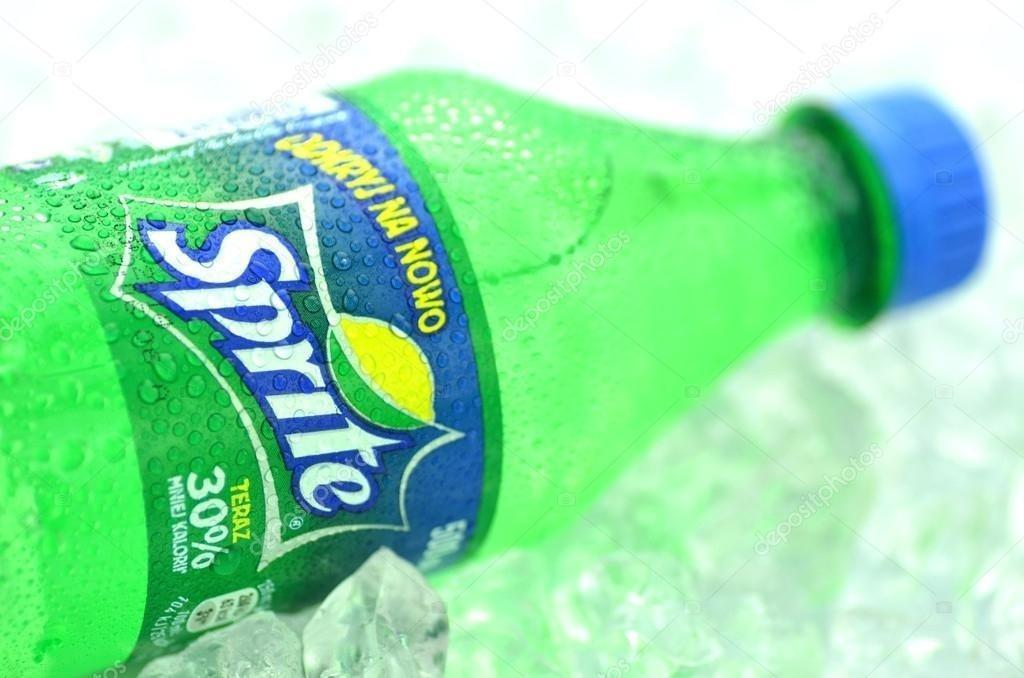bottle-plastic: (5, 60, 998, 678)
